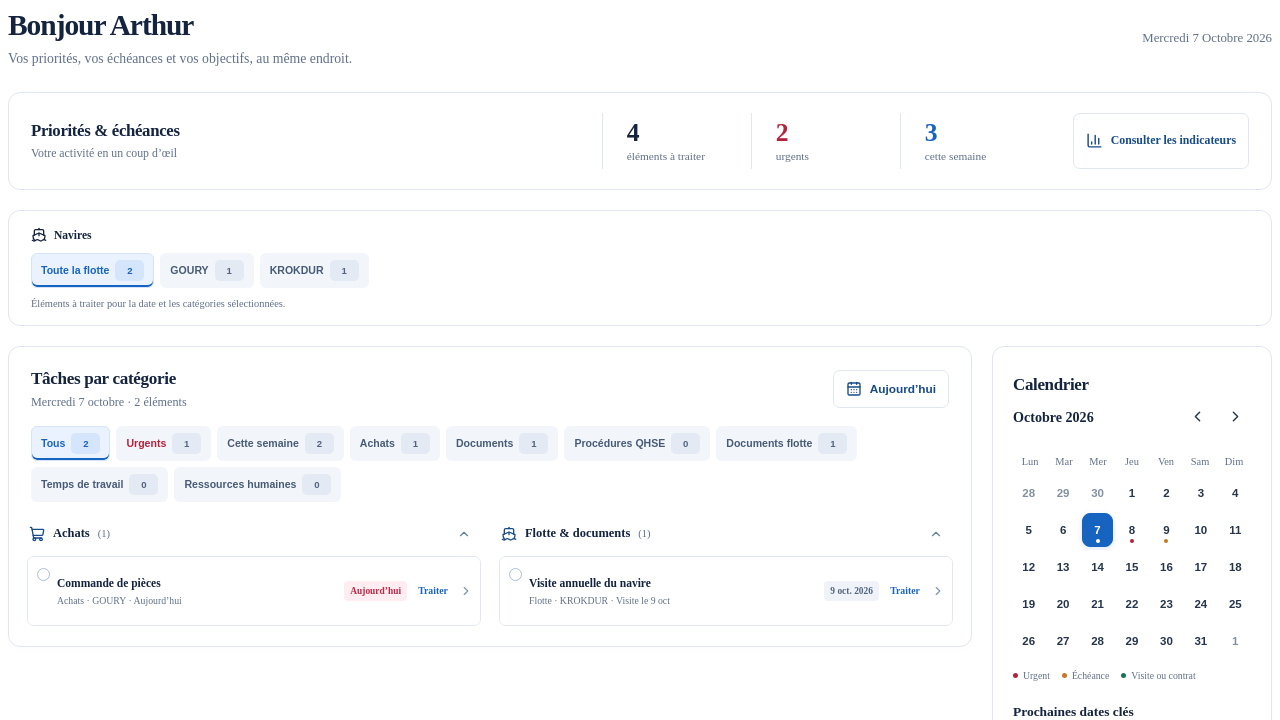
Test: home calendar and task interactions › collapses only the chosen category and expands it with the keyboard
expect the link "Commande de pièces" is shown: met, box [28,557,480,625]
Click the button named "Replier la catégorie Achats".
click(464, 534)  # box [449,519,479,549]
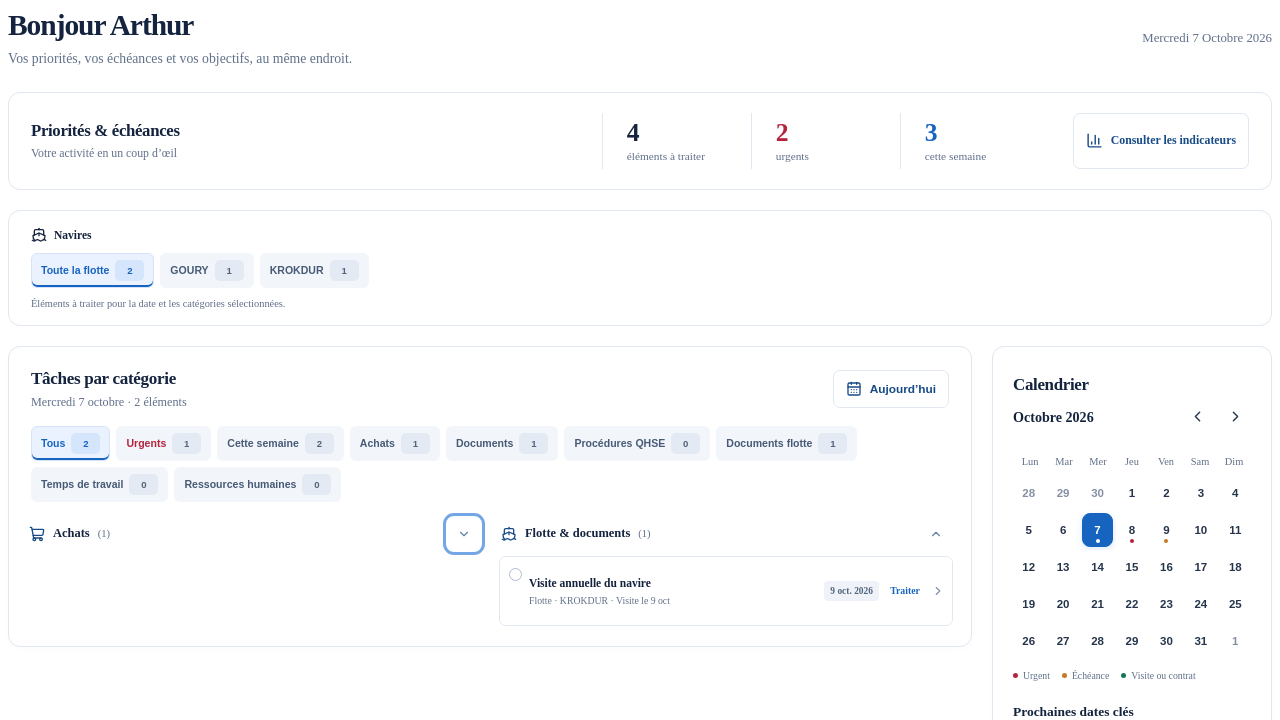
expect the link "Visite annuelle du navire" is shown: met, box [500,557,952,625]
expect the button named "Déplier la catégorie Achats" is collapsed: met, box [449,519,479,549]
expect the link "Commande de pièces" is gone: met
Press Tab
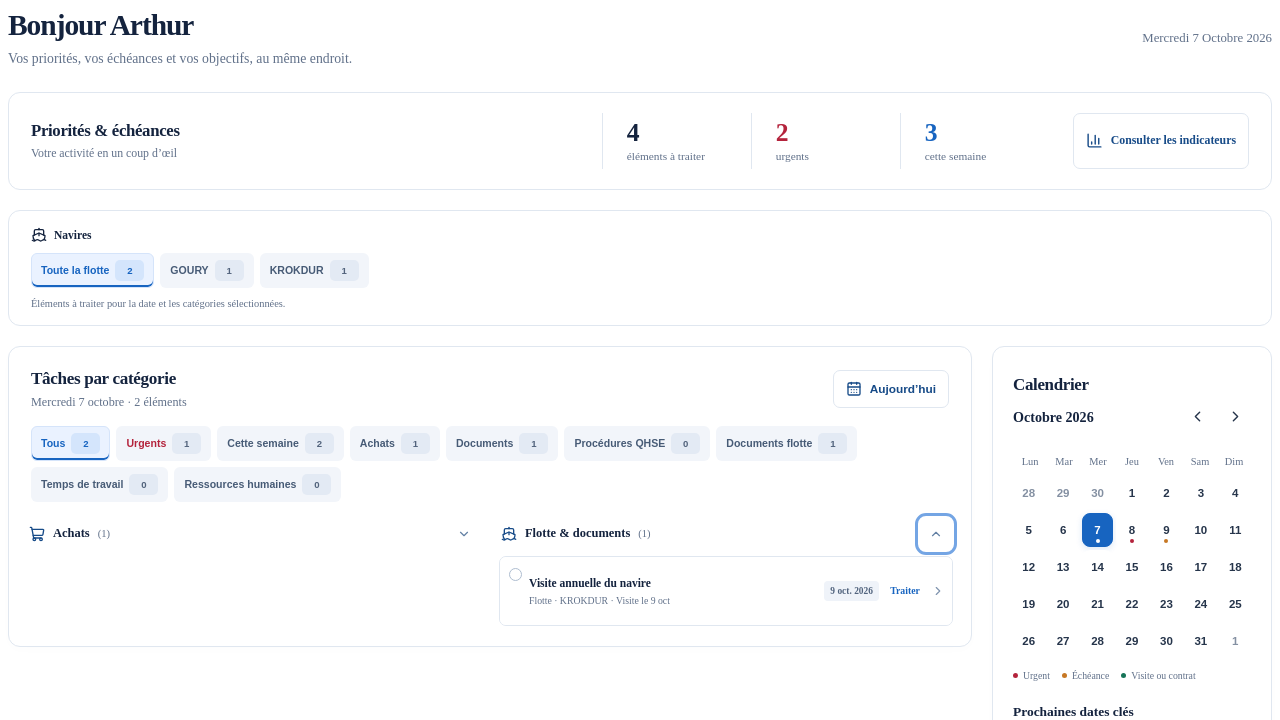
Press Shift+Tab
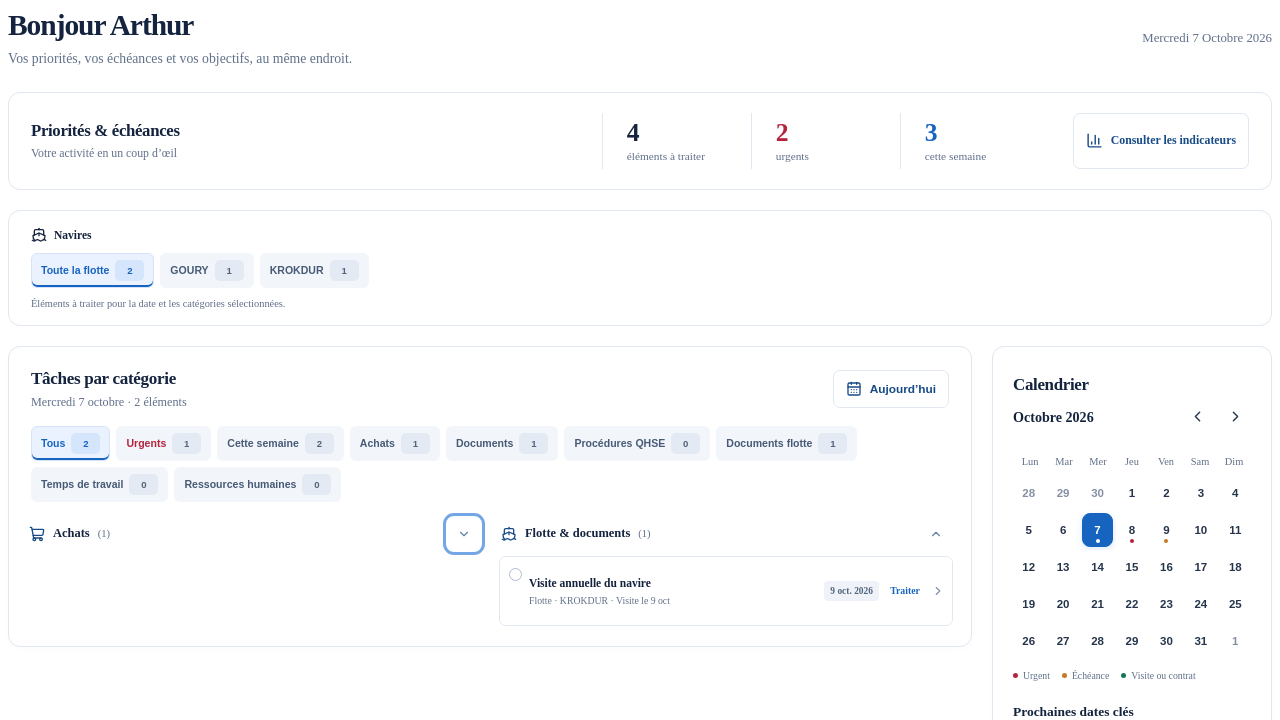
Press Enter
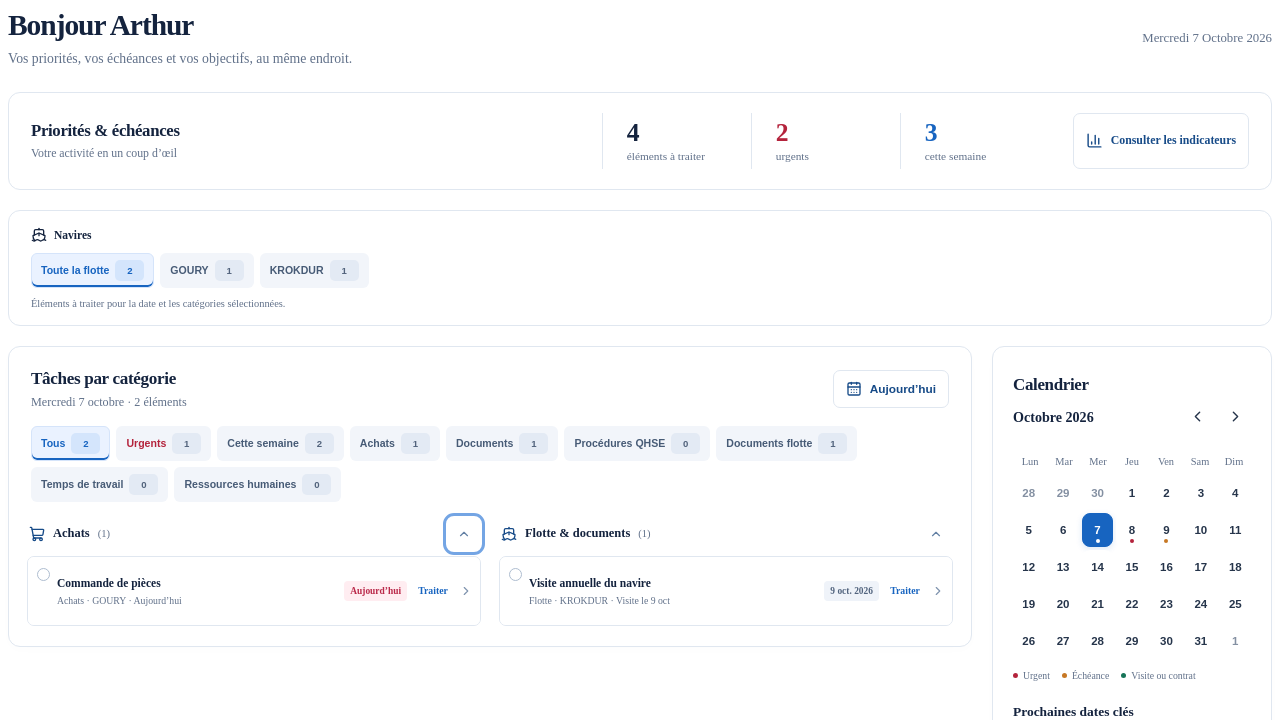
expect the button named "Replier la catégorie Achats" is expanded: met, box [449,519,479,549]
